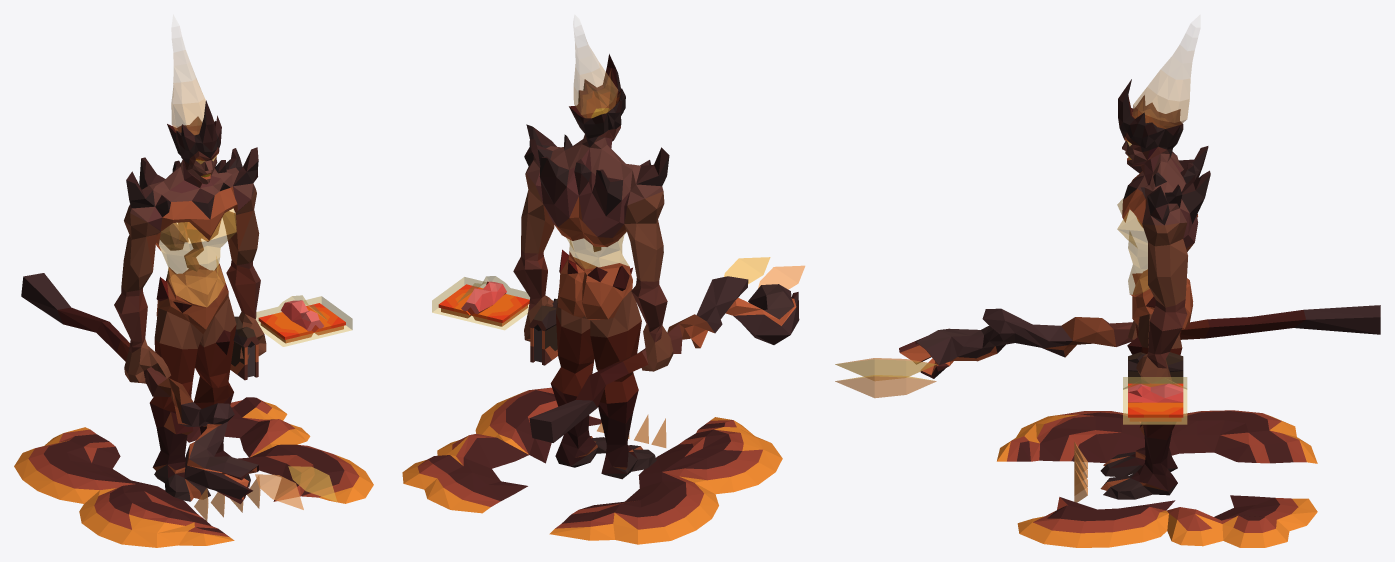
File: the-royal-titans.gltf
3 renders of one model, left to right at view 1: azimuth 30°, elevation 25°; view 2: azimuth 150°, elevation 25°; view 3: azimuth 270°, elevation 25°, orthographic. The views are drawn at different scales.
Bounding box in the file's own units: 397 × 630 × 653.
Materials: 2 (2 with a texture image).
